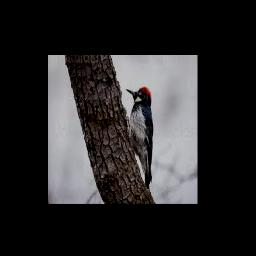Woodpecker: (126, 86, 153, 190)
